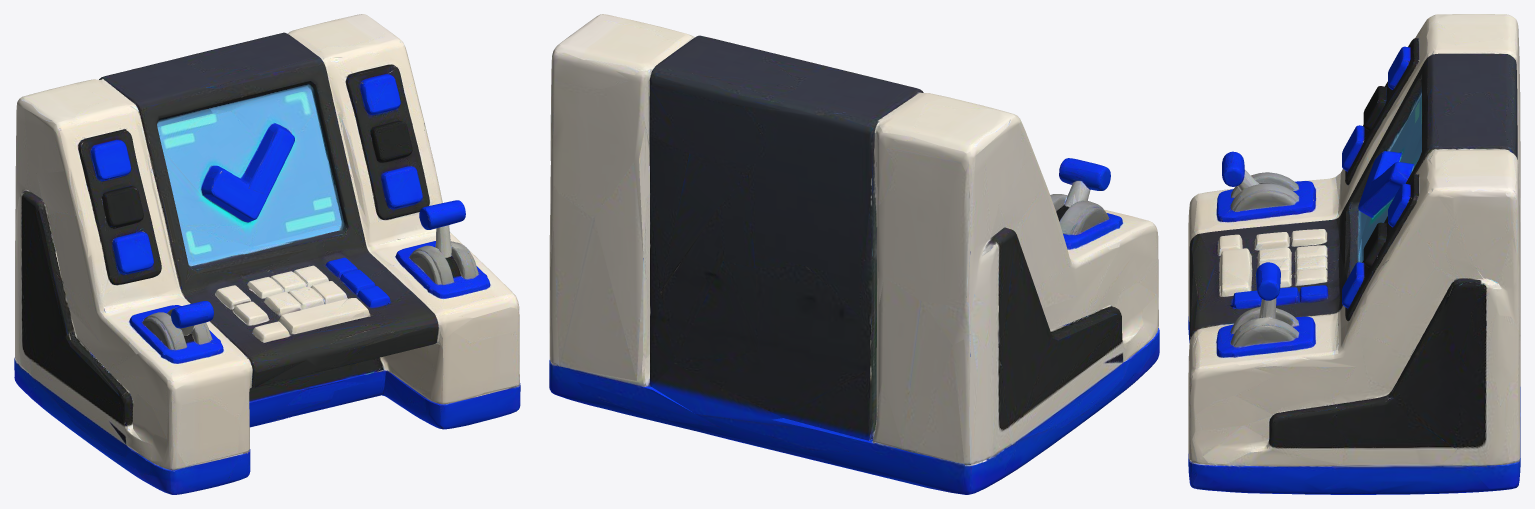
File: tasks.glb
3 views of the same model, side by side, from view 1: azimuth 30°, elevation 25°; view 2: azimuth 150°, elevation 25°; view 3: azimuth 270°, elevation 25° (orthographic). The views are drawn at different scales.
Bounding box in the file's own units: 1.9 × 1.47 × 1.43.
Materials: 1 (1 with a texture image).
